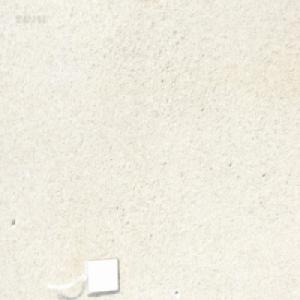LuggageTag: (45, 254, 120, 294)
